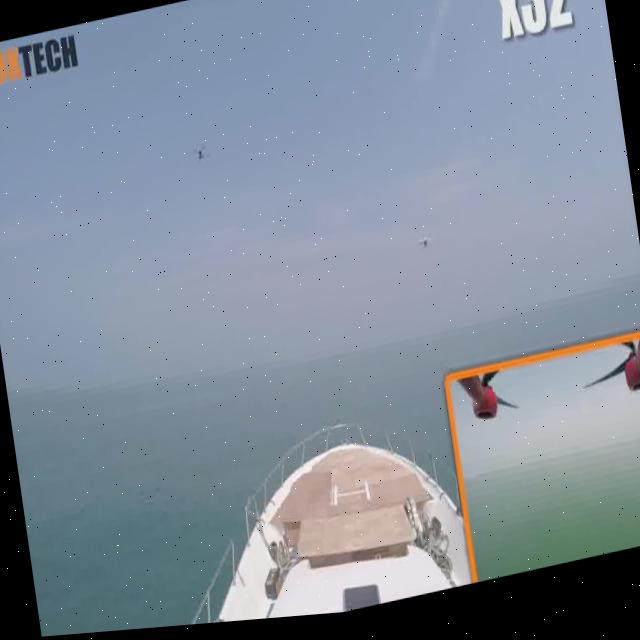drone: (181, 137, 217, 178), (414, 219, 439, 270)
